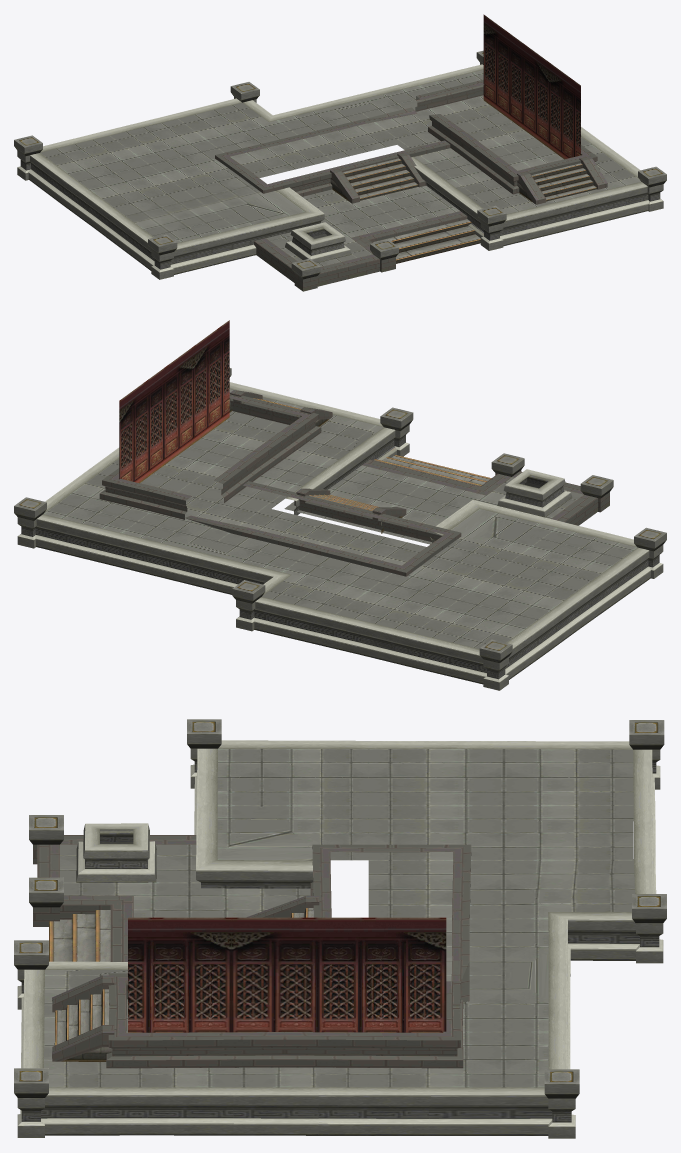
The model's file is Yland1_jz_11 Yland1.FBX.
The picture shows the model from 3 angles, top to bottom: view 1: azimuth 30°, elevation 25°; view 2: azimuth 150°, elevation 25°; view 3: azimuth 270°, elevation 25°; orthographic projection. The views are drawn at different scales.
Parts seen in each view (by area): view 1: Yland1_jz_11 Yland1; view 2: Yland1_jz_11 Yland1; view 3: Yland1_jz_11 Yland1.
Boxes of the visible parts, x1=… form: Yland1_jz_11 Yland1: x1=14, y1=14, x2=666, y2=291; Yland1_jz_11 Yland1: x1=14, y1=320, x2=666, y2=690; Yland1_jz_11 Yland1: x1=14, y1=719, x2=666, y2=1138.
Size of the model in its own units: 28.26 by 6.53 by 21.39.
